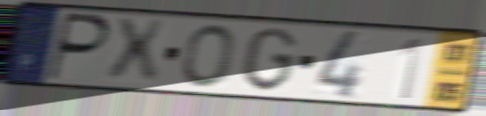1: (398, 36, 424, 101)
4: (314, 28, 364, 102)
G: (239, 25, 300, 94)
O: (180, 22, 236, 91)
P: (44, 10, 113, 84)
X: (105, 17, 169, 86)
